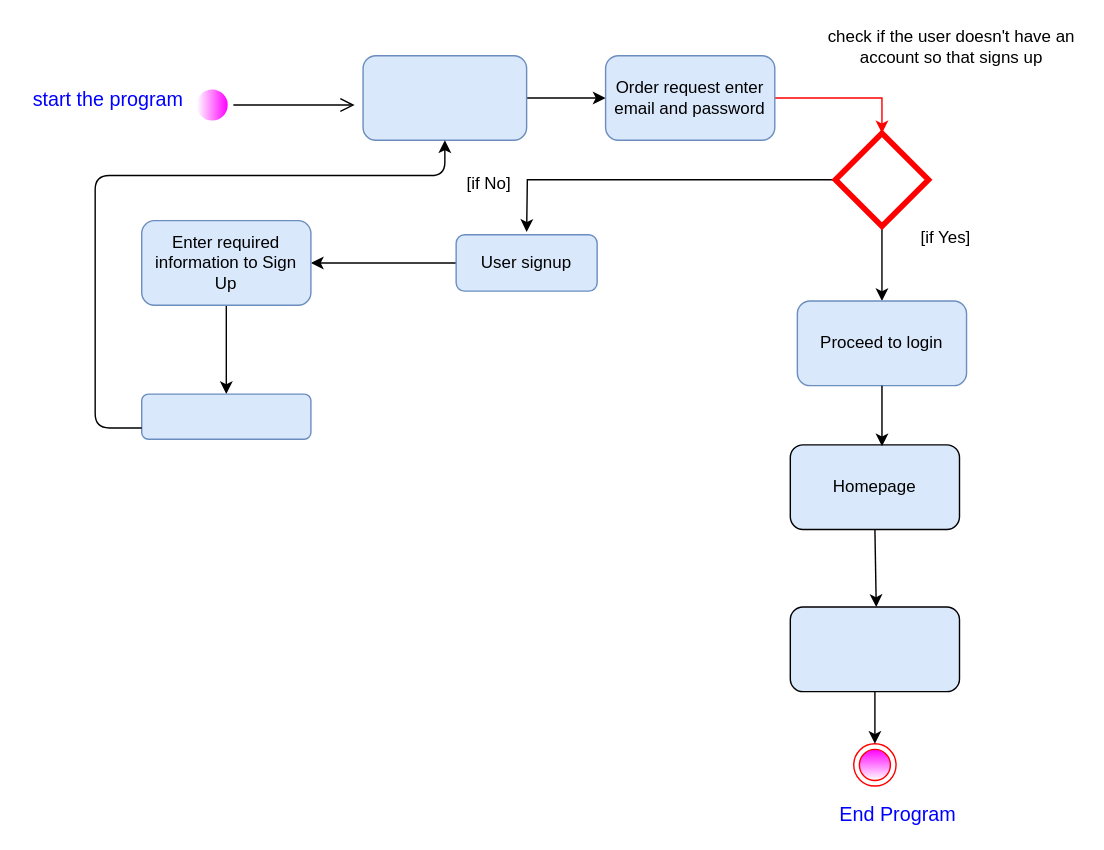
The diagram is 1104 pixels wide and 850 high, and some of its shapes have lost their labels. The shapes that lost their labels are listed below. From the top down, each one's box as (x1, y1, x2, y2) in pixels, then its label:
(362, 54, 527, 140): User send a login request
(140, 393, 311, 439): User is registered
(789, 606, 960, 692): Logout
